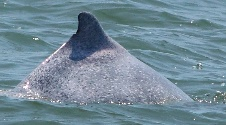fin: (11, 8, 203, 108)
